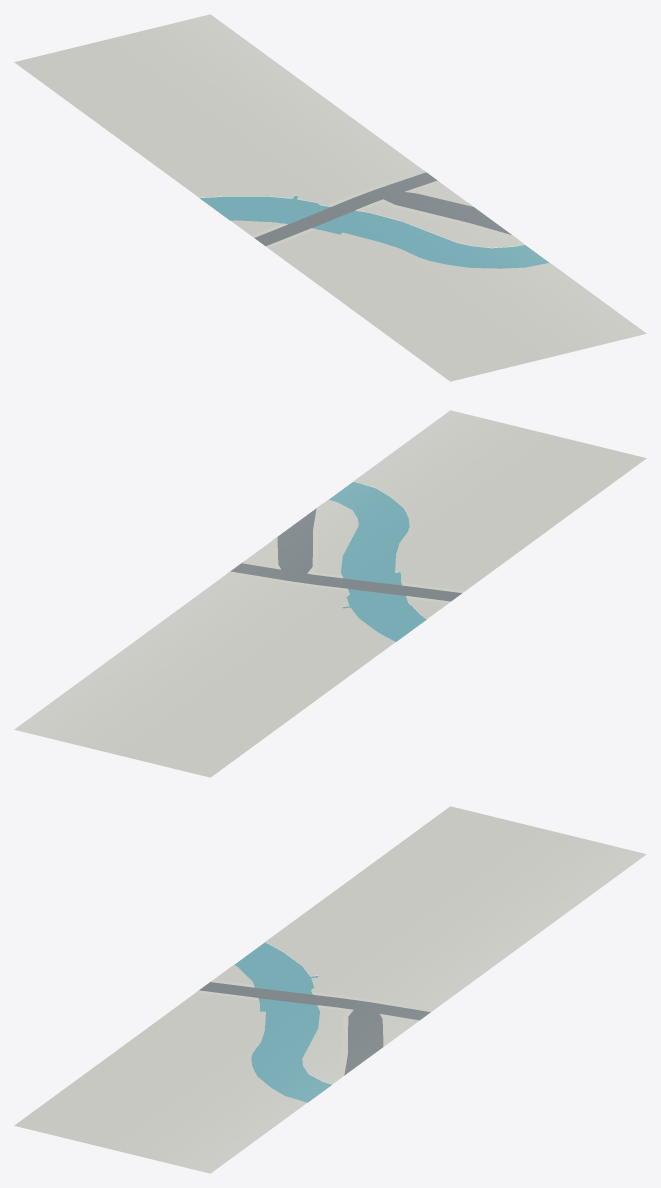
The picture shows the model from 3 angles, top to bottom: view 1: azimuth 30°, elevation 25°; view 2: azimuth 150°, elevation 25°; view 3: azimuth 330°, elevation 25°; orthographic projection.
Visible parts, largest first — view 1: city; view 2: city; view 3: city.
Boxes of the visible parts, x1,y1,x2,y2 form: city: [14, 14, 646, 381]; city: [14, 410, 646, 777]; city: [14, 806, 646, 1173].
Bounding box in the file's own units: 130 × 0.4 × 500.
